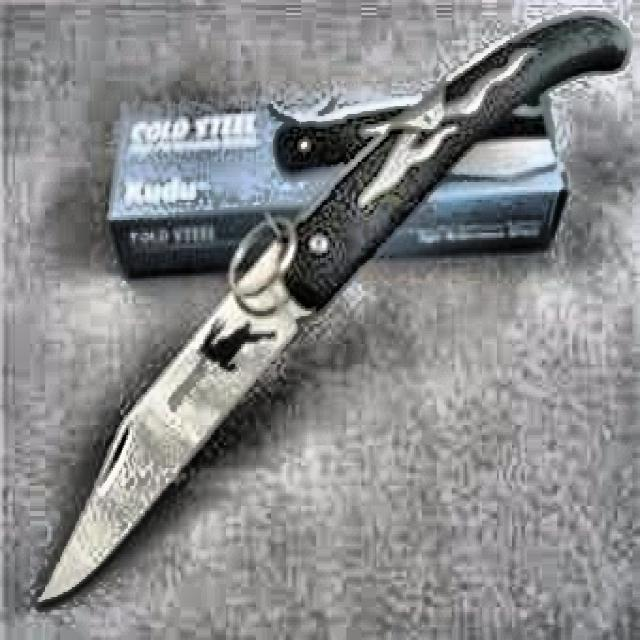knife: (38, 16, 631, 614)
